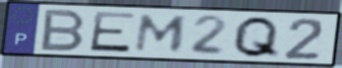2: (283, 16, 328, 62), (188, 14, 229, 58)
B: (38, 8, 89, 53)
E: (87, 10, 138, 54)
M: (132, 12, 190, 53)
Q: (230, 15, 282, 60)
